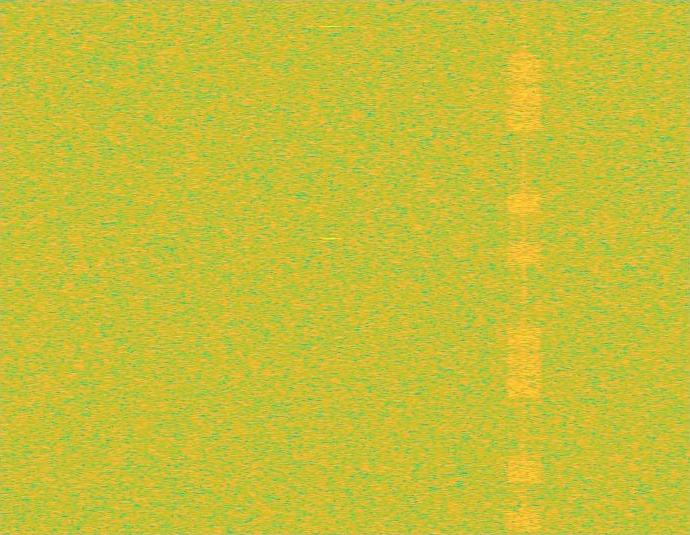DSSS: (522, 0, 527, 534)
LTE: (507, 0, 541, 534)
Radar: (324, 0, 337, 534)
